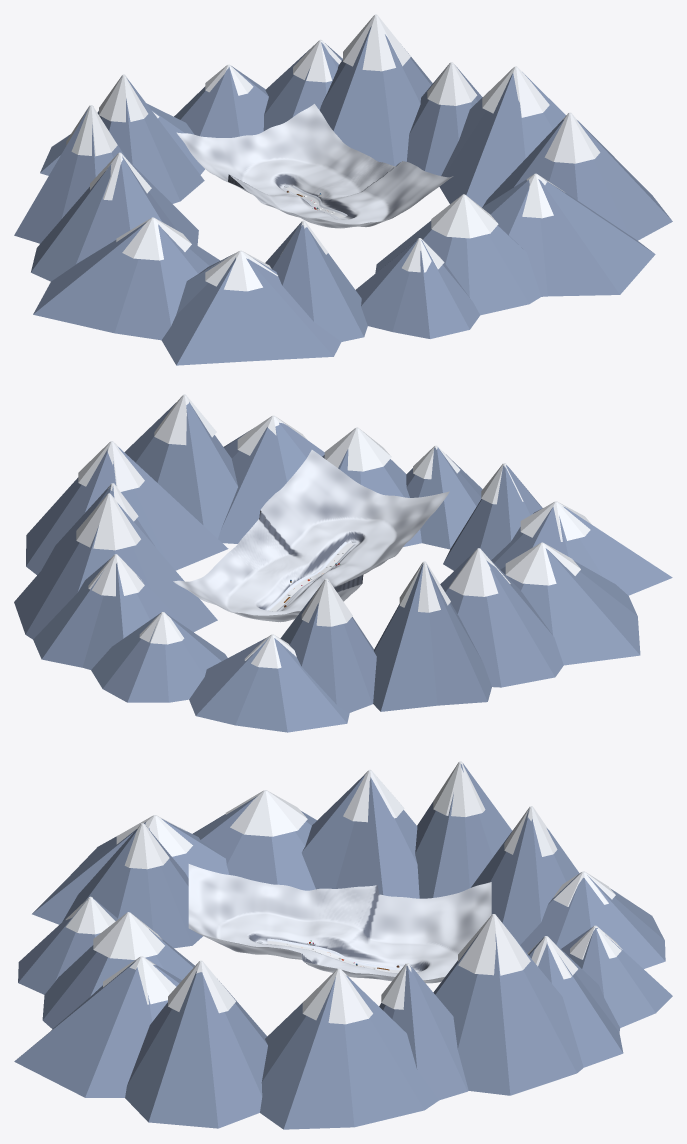
File: parque_manobras.glb
3 renders of one model, top to bottom at view 1: azimuth 30°, elevation 25°; view 2: azimuth 150°, elevation 25°; view 3: azimuth 270°, elevation 25°, orthographic. The views are drawn at different scales.
Visible parts, largest first — view 1: terrain, mtn6, mtn7, mtn2, mtn14, mtn8, mtn0, mtn4, mtn1, mtn3, mtn5, mtn10 (+19 smaller); view 2: terrain, mtn9, mtn11, mtn0, mtn7, mtn14, mtn8, mtn1, mtn12, mtn13, mtn10, mtn2 (+21 smaller); view 3: terrain, mtn0, mtn1, mtn14, mtn2, mtn8, mtn9, mtn5, mtn10, mtn11, mtn15, mtn7 (+22 smaller).
Part boxes in pixels (x1=…): terrain: x1=176, y1=104, x2=453, y2=228; mtn6: x1=161, y1=253, x2=341, y2=365; mtn7: x1=33, y1=222, x2=220, y2=340; mtn2: x1=482, y1=179, x2=655, y2=296; mtn14: x1=319, y1=26, x2=432, y2=166; mtn8: x1=31, y1=156, x2=198, y2=281; mtn0: x1=439, y1=72, x2=565, y2=207; mtn4: x1=356, y1=240, x2=480, y2=338; mtn1: x1=483, y1=119, x2=672, y2=240; mtn3: x1=375, y1=220, x2=541, y2=315; mtn5: x1=265, y1=222, x2=367, y2=341; mtn10: x1=97, y1=76, x2=204, y2=203; terrain: x1=173, y1=450, x2=449, y2=622; mtn9: x1=373, y1=563, x2=491, y2=711; mtn11: x1=189, y1=638, x2=349, y2=732; mtn0: x1=26, y1=446, x2=228, y2=574; mtn7: x1=500, y1=548, x2=640, y2=665; mtn14: x1=14, y1=503, x2=217, y2=639; mtn8: x1=440, y1=552, x2=563, y2=687; mtn1: x1=124, y1=402, x2=237, y2=538; mtn12: x1=91, y1=613, x2=227, y2=702; mtn13: x1=33, y1=559, x2=184, y2=669; mtn10: x1=280, y1=581, x2=376, y2=712; mtn2: x1=218, y1=422, x2=324, y2=543; terrain: x1=188, y1=864, x2=491, y2=983; mtn0: x1=260, y1=975, x2=439, y2=1129; mtn1: x1=125, y1=971, x2=267, y2=1128; mtn14: x1=433, y1=934, x2=583, y2=1095; mtn2: x1=14, y1=960, x2=181, y2=1097; mtn8: x1=301, y1=774, x2=419, y2=898; mtn9: x1=415, y1=763, x2=512, y2=898; mtn5: x1=62, y1=826, x2=202, y2=948; mtn10: x1=471, y1=809, x2=579, y2=944; mtn11: x1=520, y1=872, x2=665, y2=968; mtn15: x1=379, y1=965, x2=468, y2=1100; mtn7: x1=192, y1=796, x2=316, y2=890.
Size of what is drawn, in the model's own units: 2604 by 524 by 2322.
